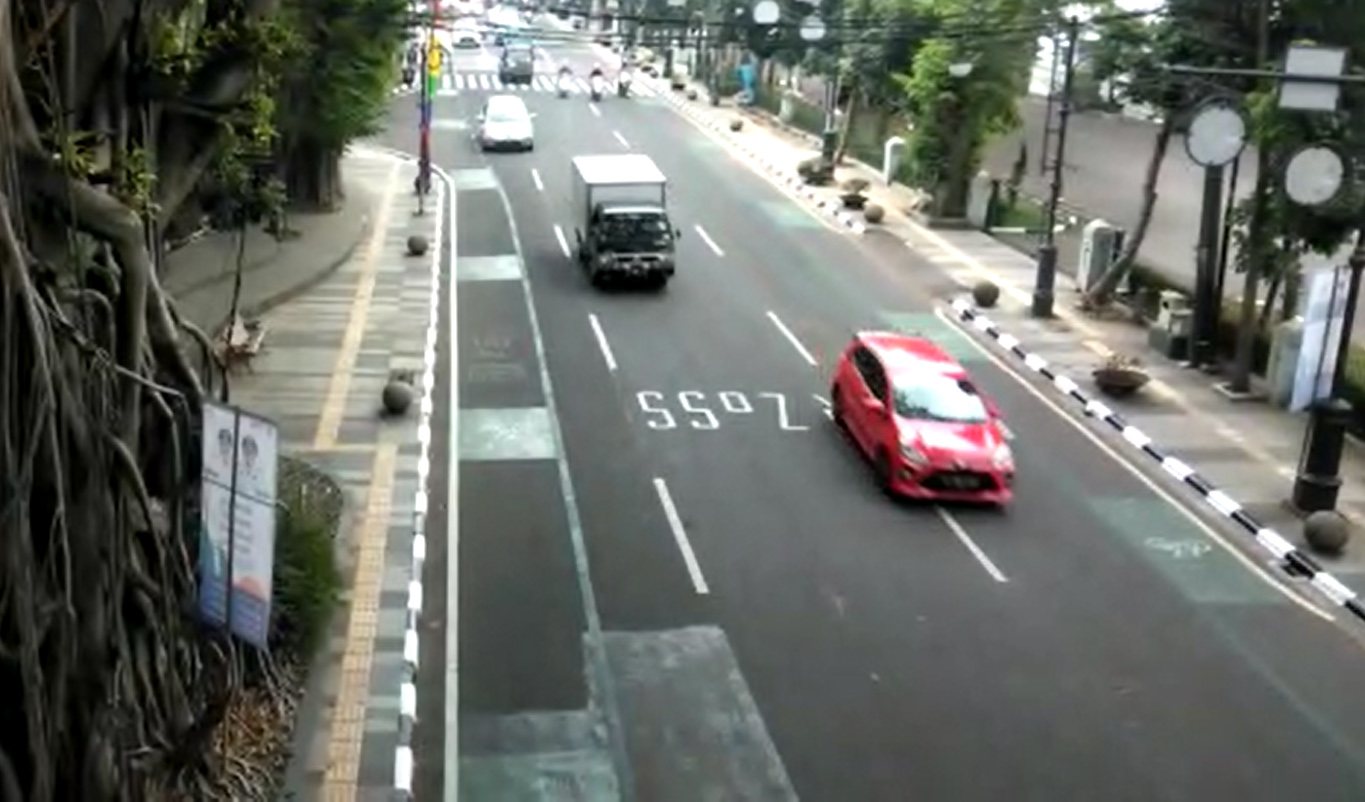mobil: (814, 315, 1038, 525), (560, 145, 691, 307), (471, 86, 545, 162)
